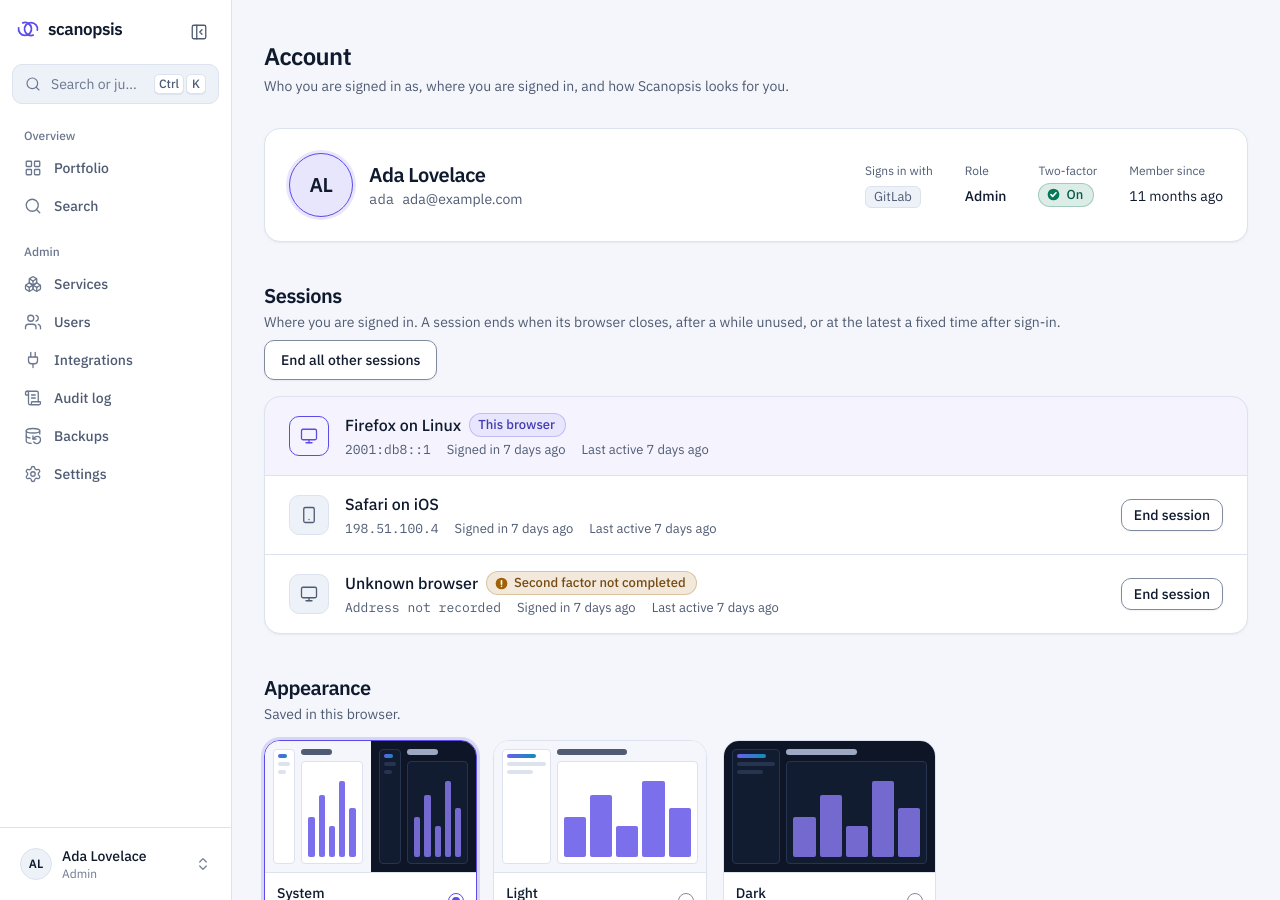
Scenario: account page › ends all other sessions after confirmation and reports how many
Click the button "End all other sessions".
click(351, 360)  # box [264, 340, 437, 380]
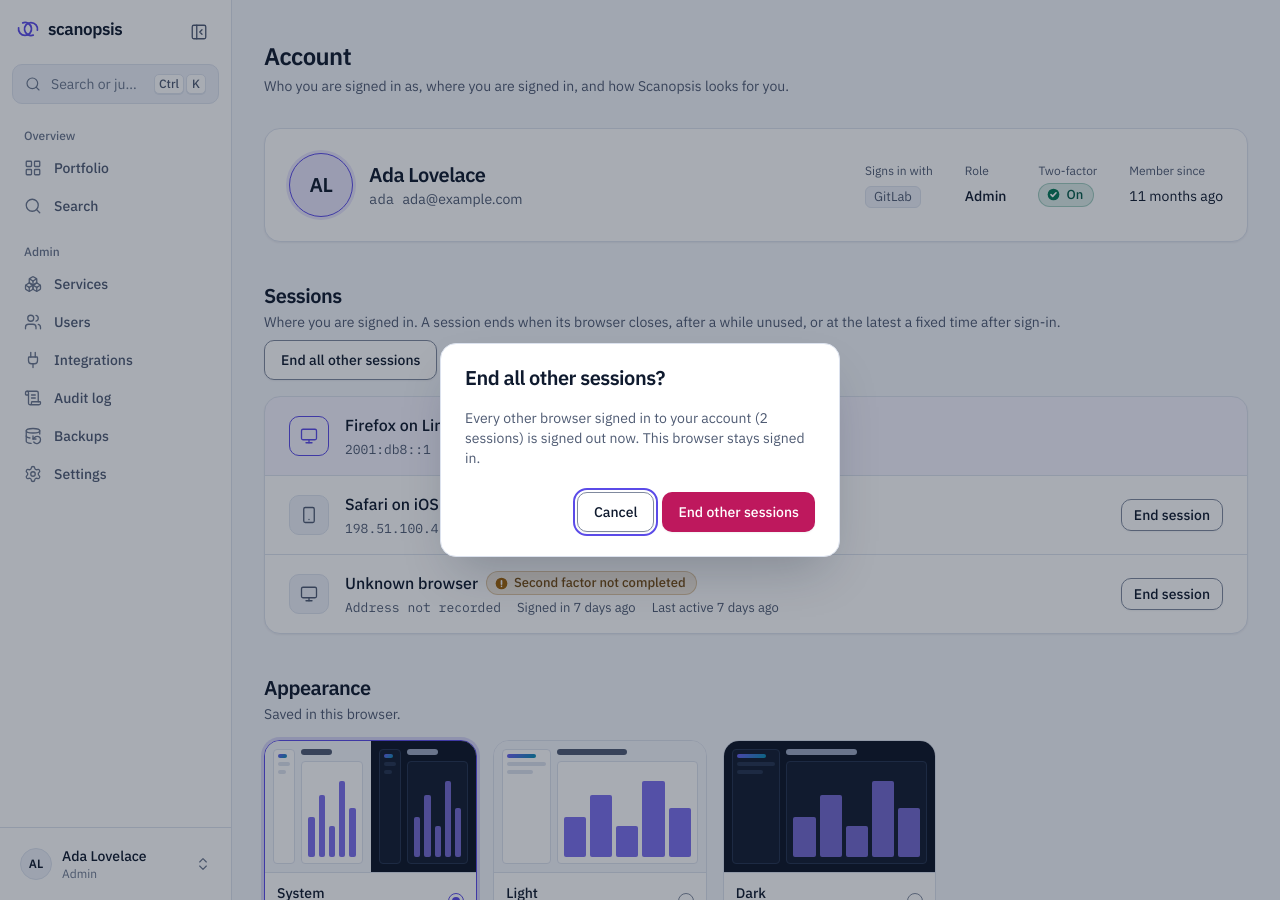
Expected: the text "(2 sessions)" is shown, [465, 408, 815, 468]
Click the button "End other sessions".
click(739, 512)  # box [662, 492, 815, 532]
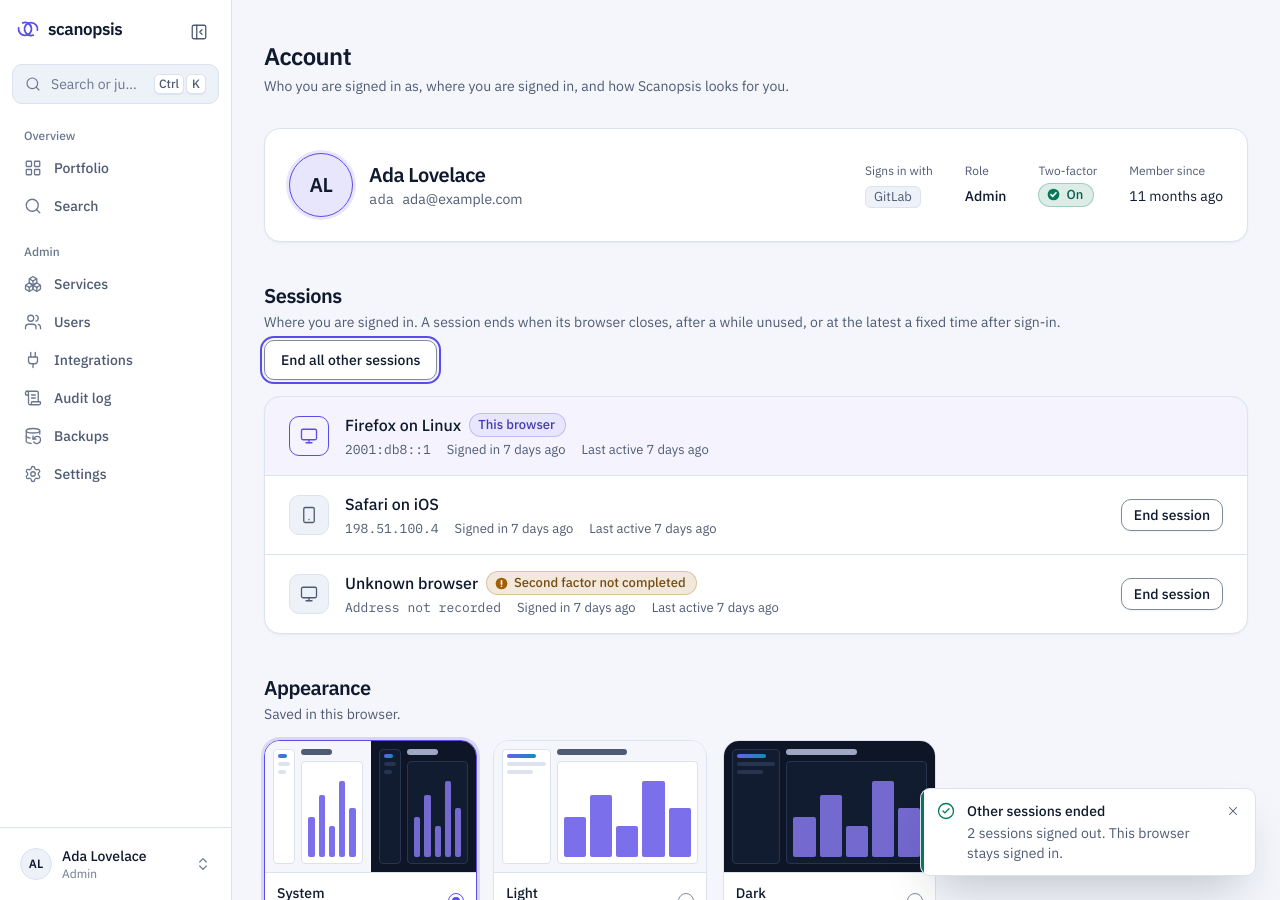
Expected: the text "Other sessions ended" is shown, [967, 802, 1105, 820]
Expected: the text "2 sessions signed out. This browser stays signed in." is shown, [967, 823, 1215, 863]
Expected: the dialog is gone
